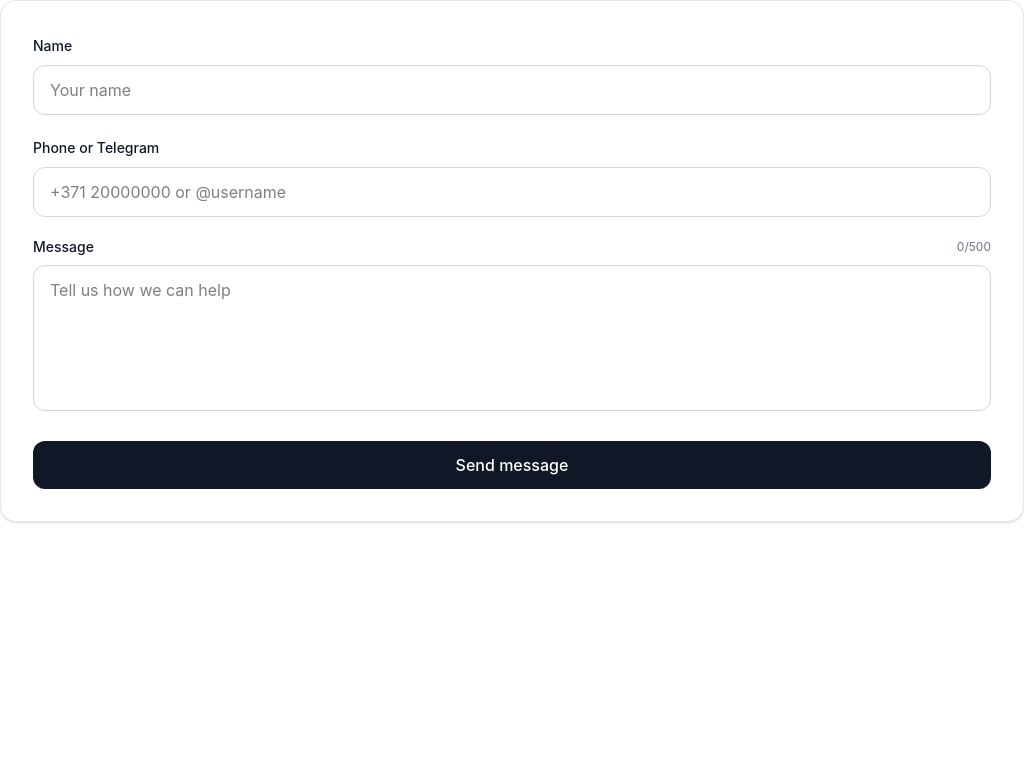
Test case: ContactForm › shows an error when submission fails
In the field labelled "Name": point(512, 90) [33,65,991,115], type "John"
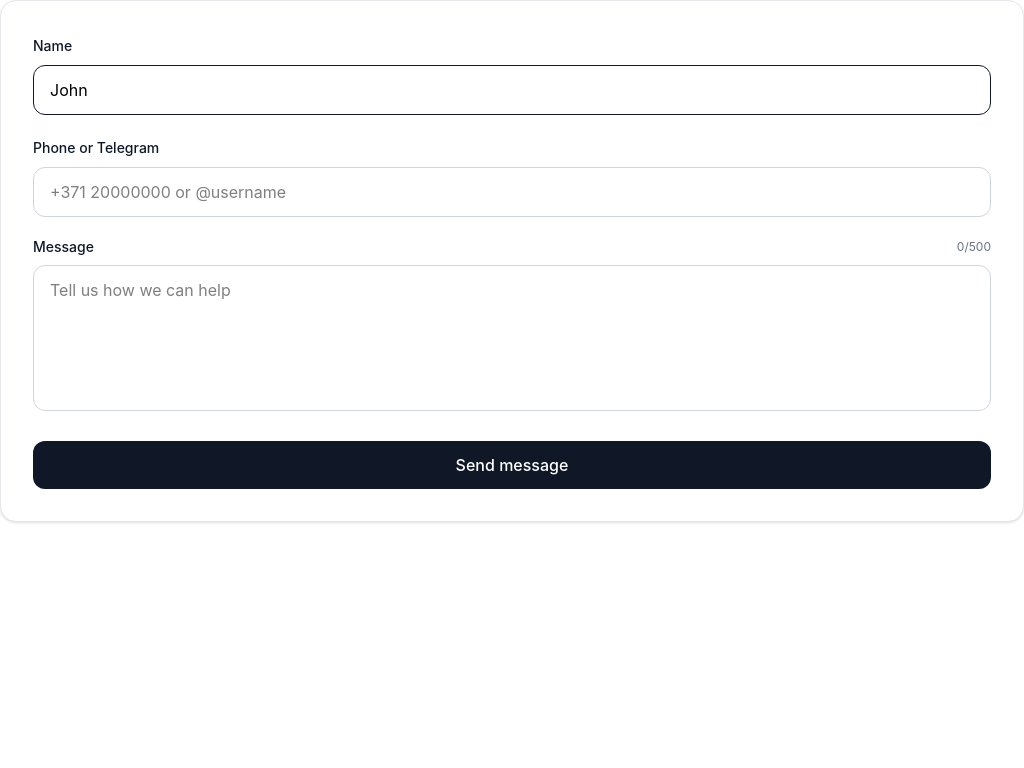
In the field labelled "Phone or Telegram": point(512, 192) [33,167,991,217], type "+371 20000000"
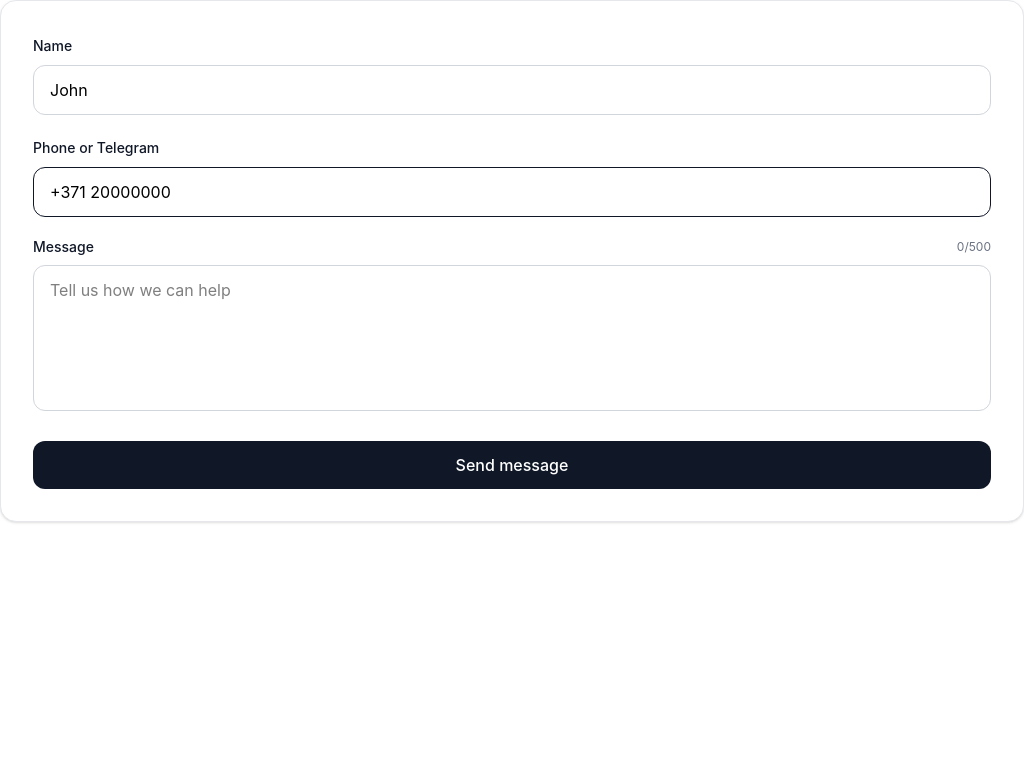
Click the button "Send message": point(512, 465) [33,441,991,489]
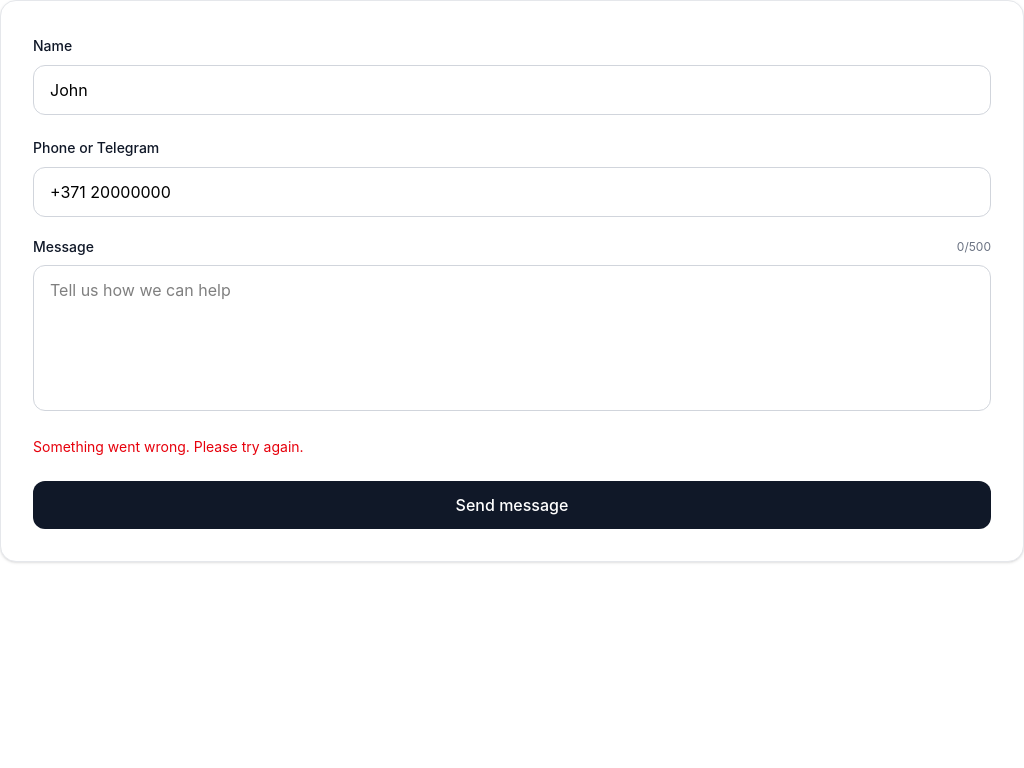
Expected: the button "Send message" is shown, [33,481,991,529]
Now the text "Something went wrong. Please try again." is shown, box [33,438,304,455]
